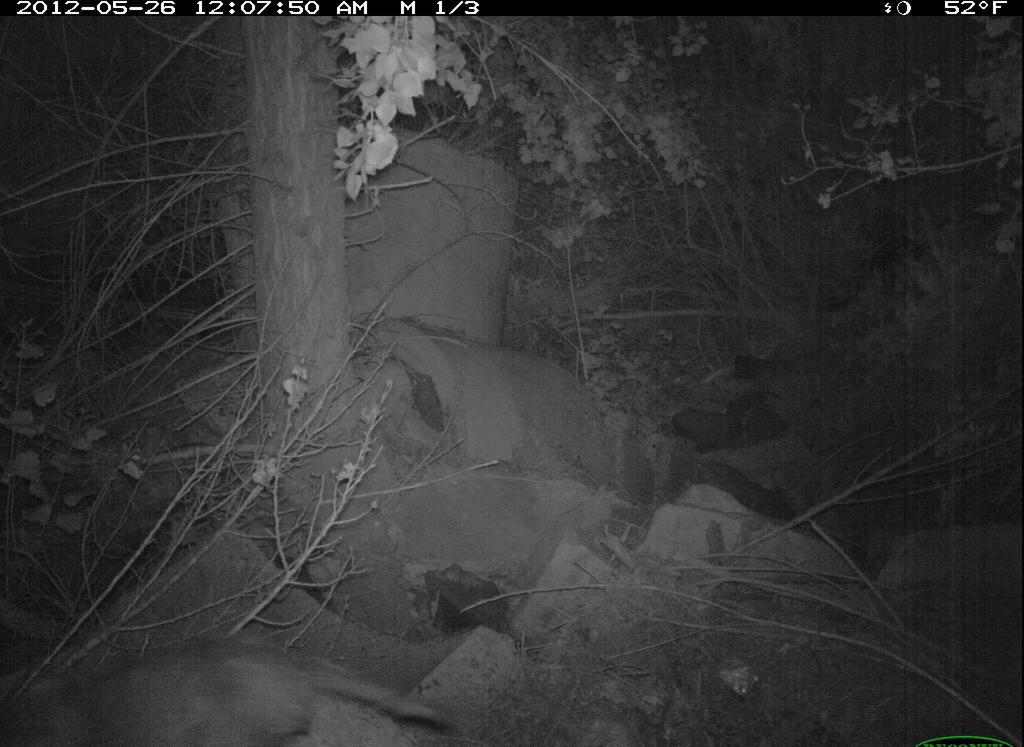coyote: (11, 618, 461, 747)
